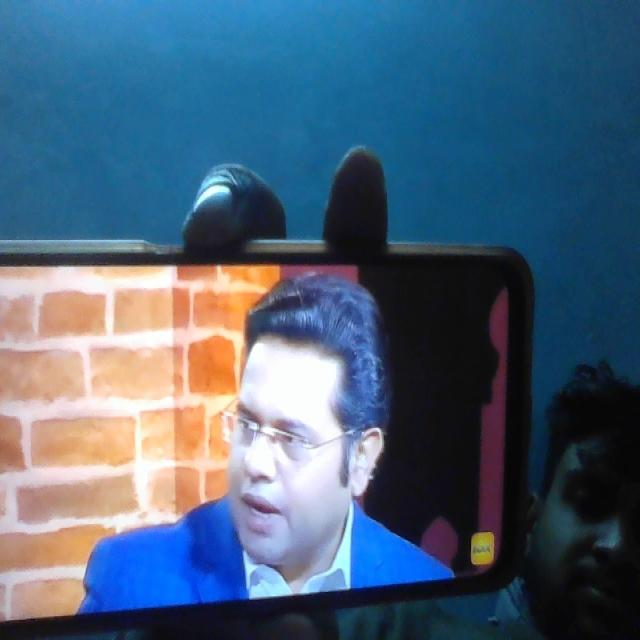fake: (216, 285, 372, 580)
